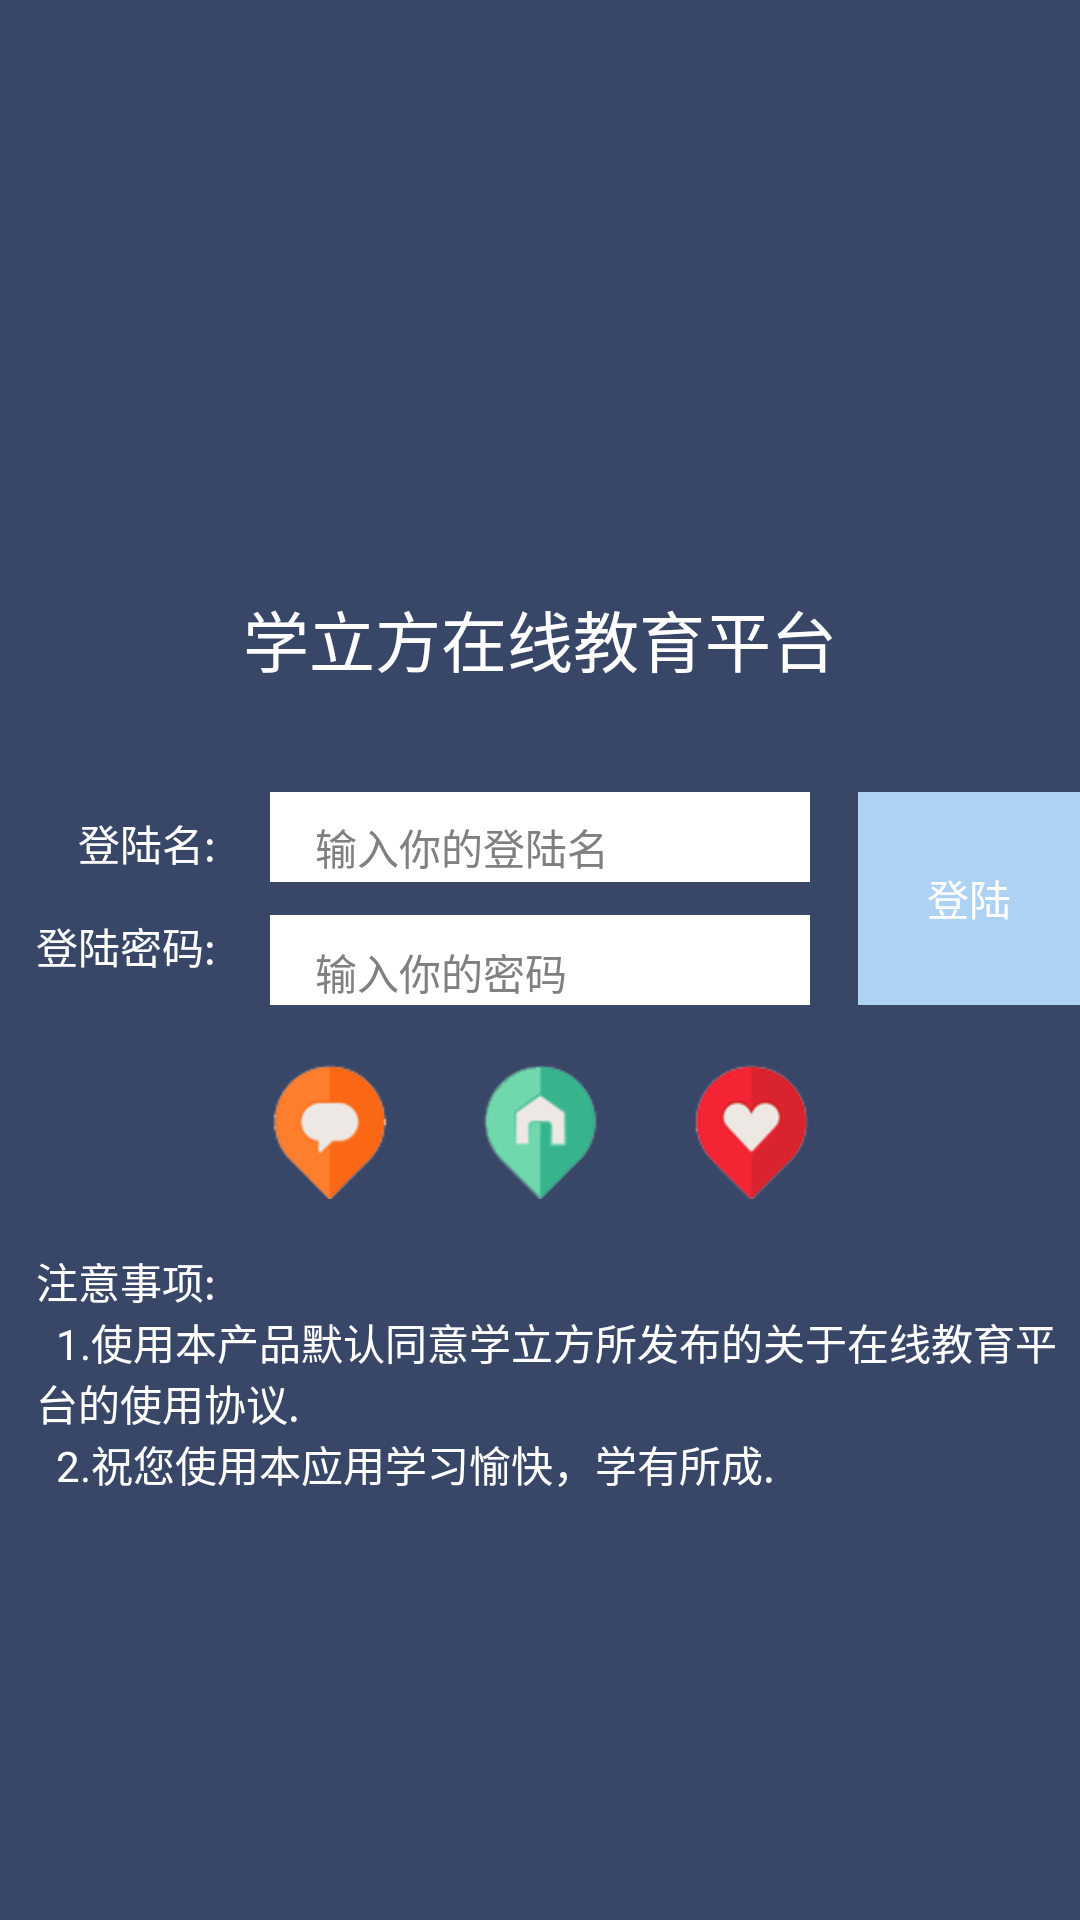

Screen size 1080 x 1920. Icon name, then its box in pixels as (x1, y1, x2, y2):
home: (484, 1066, 596, 1199)
love: (695, 1065, 807, 1199)
talk: (273, 1065, 387, 1199)
